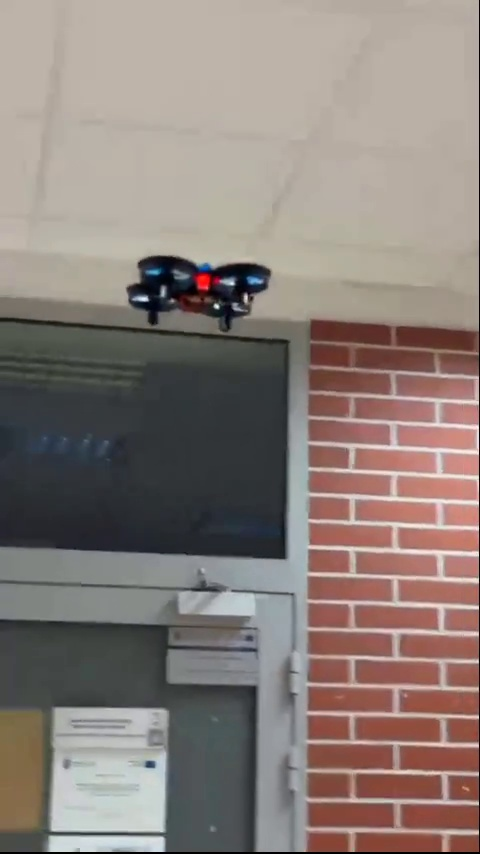drone: (122, 255, 273, 332)
